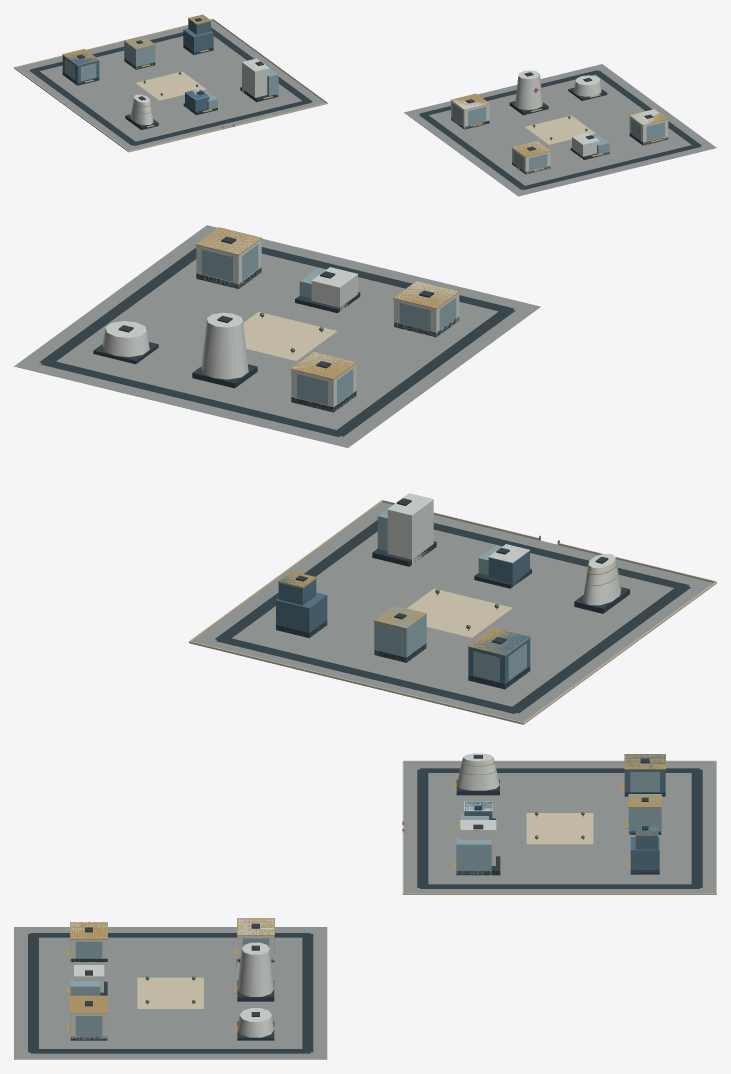
File: GC-TILE-02-24.glb
3 views of the same model, one above another, from view 1: azimuth 30°, elevation 25°; view 2: azimuth 150°, elevation 25°; view 3: azimuth 270°, elevation 25° (orthographic). The views are drawn at different scales.
Parts seen in each view (by area): view 1: GC-TILE-02-24-paving, GC-TILE-02-24-dark, GC-TILE-02-24-white, GC-TILE-02-24-ivory, GC-TILE-02-24-glass, GC-TILE-02-24-gold, GC-TILE-02-24-blue; view 2: GC-TILE-02-24-paving, GC-TILE-02-24-dark, GC-TILE-02-24-white, GC-TILE-02-24-ivory, GC-TILE-02-24-glass, GC-TILE-02-24-gold, GC-TILE-02-24-blue; view 3: GC-TILE-02-24-paving, GC-TILE-02-24-dark, GC-TILE-02-24-white, GC-TILE-02-24-ivory, GC-TILE-02-24-glass, GC-TILE-02-24-gold, GC-TILE-02-24-blue.
Boxes of the visible parts, x1,y1,x2,y2 form: GC-TILE-02-24-paving: [16, 20, 716, 196]; GC-TILE-02-24-dark: [29, 18, 701, 189]; GC-TILE-02-24-white: [130, 58, 668, 173]; GC-TILE-02-24-ivory: [14, 18, 595, 152]; GC-TILE-02-24-glass: [64, 36, 664, 170]; GC-TILE-02-24-gold: [62, 14, 668, 171]; GC-TILE-02-24-blue: [62, 15, 213, 111]; GC-TILE-02-24-paving: [14, 225, 713, 722]; GC-TILE-02-24-dark: [39, 236, 690, 713]; GC-TILE-02-24-white: [102, 228, 621, 605]; GC-TILE-02-24-ivory: [189, 312, 716, 724]; GC-TILE-02-24-glass: [202, 244, 526, 682]; GC-TILE-02-24-gold: [148, 227, 623, 655]; GC-TILE-02-24-blue: [276, 546, 530, 688]; GC-TILE-02-24-paving: [14, 762, 715, 1059]; GC-TILE-02-24-dark: [28, 755, 702, 1053]; GC-TILE-02-24-white: [70, 753, 499, 1040]; GC-TILE-02-24-ivory: [137, 760, 716, 1008]; GC-TILE-02-24-glass: [70, 772, 661, 1035]; GC-TILE-02-24-gold: [67, 754, 665, 1032]; GC-TILE-02-24-blue: [464, 754, 665, 874].
Bounding box in the file's own units: 758 × 54.48 × 758.
